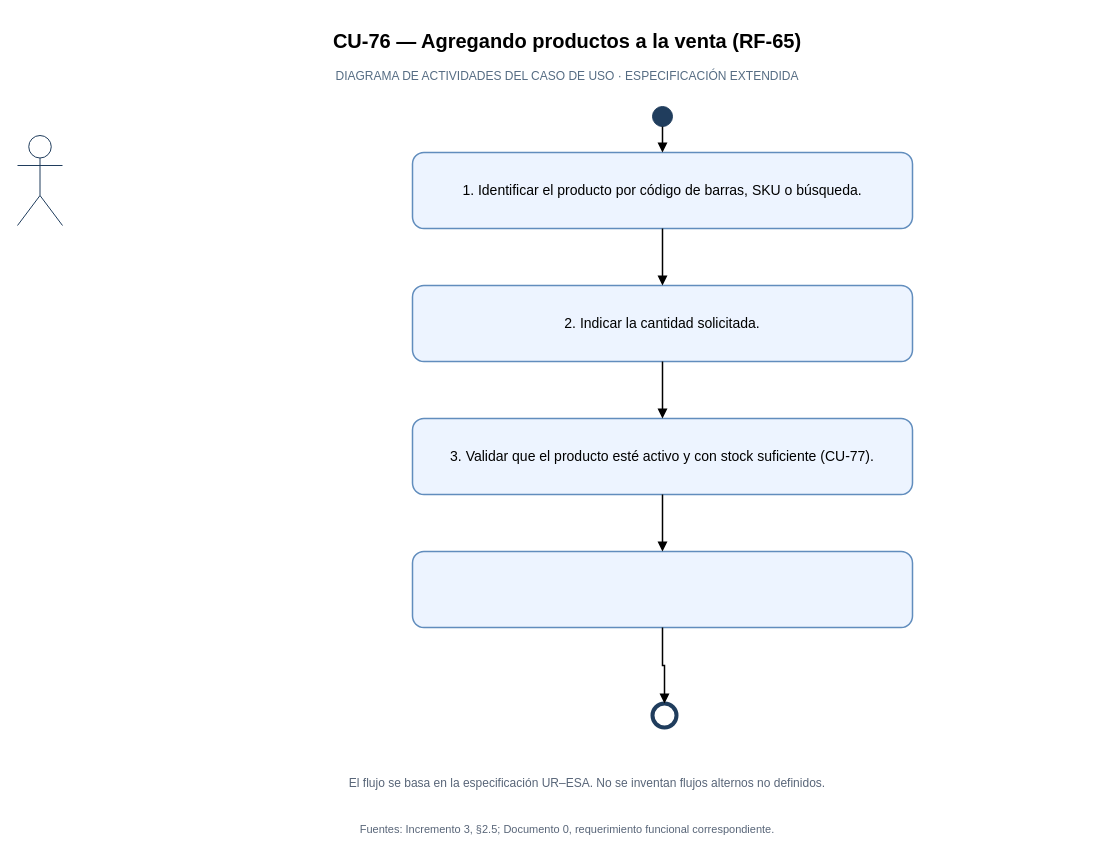
The diagram is 1105 pixels wide and 858 high, and some of its shapes have lost their labels. The centre of each missing label's shape, as x and y in pixels:
"4. Incorporar el producto a la venta y actualizar el total (CU-78)." belongs at (x=662, y=589).
"Cajero" belongs at (x=39, y=180).
